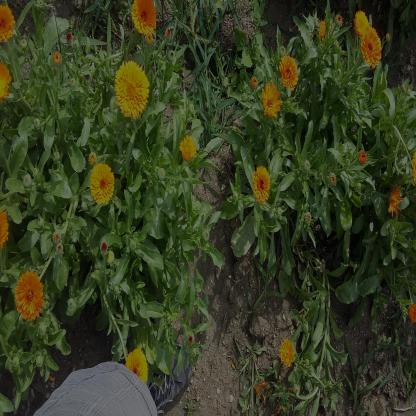marigold: (116, 60, 149, 116), (15, 272, 44, 318), (131, 0, 157, 35), (91, 165, 114, 200), (361, 26, 381, 64), (280, 54, 298, 91), (125, 350, 147, 378), (262, 83, 280, 116), (253, 167, 270, 200), (0, 5, 14, 41), (280, 339, 295, 371), (354, 10, 372, 32)
